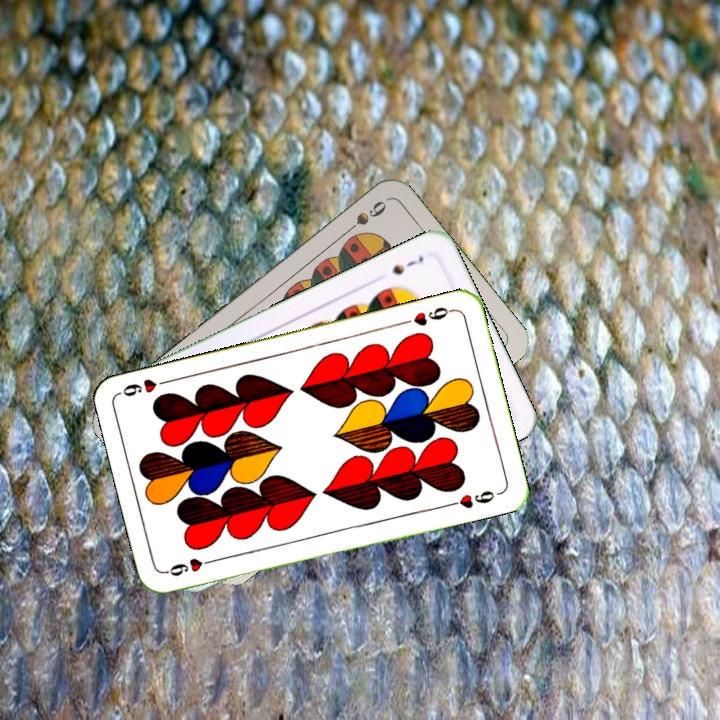H9: (399, 302, 457, 329), (162, 554, 221, 579)
S7: (388, 251, 427, 277)
S9: (339, 196, 390, 238)
